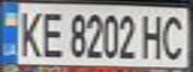0: (103, 10, 121, 60)
2: (84, 10, 106, 60), (118, 10, 139, 61)
8: (63, 9, 87, 60)
C: (157, 11, 190, 61)
E: (36, 8, 66, 60)
H: (139, 11, 169, 61)
K: (12, 7, 45, 58)
